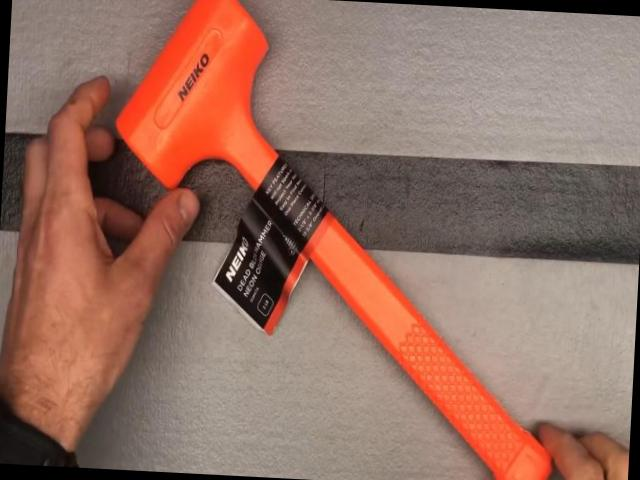hammer: (97, 0, 578, 480)
